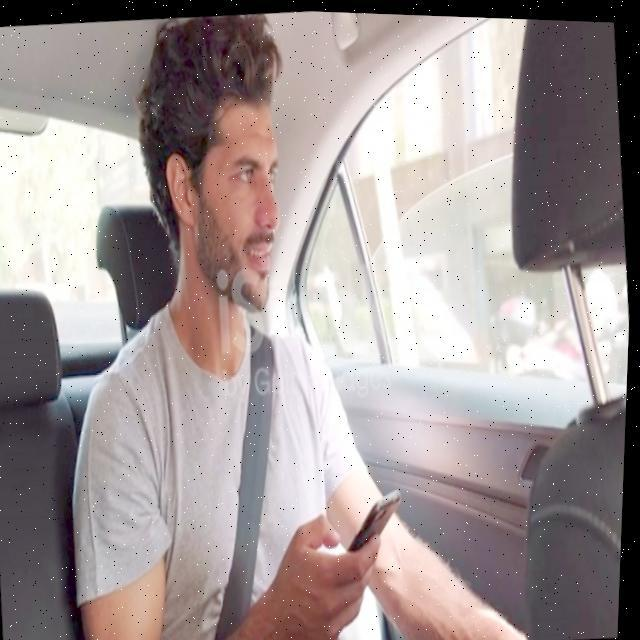PhoneCall: (336, 482, 411, 560)
